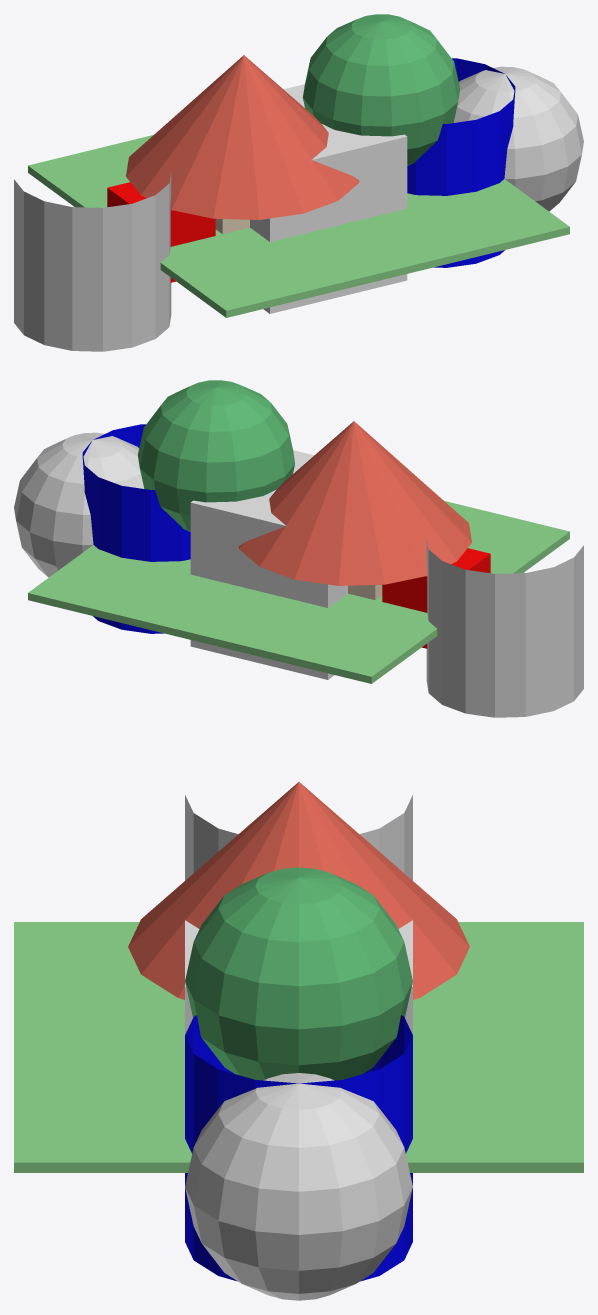
File: result.glb
3 renders of one model, top to bottom at view 1: azimuth 30°, elevation 25°; view 2: azimuth 150°, elevation 25°; view 3: azimuth 270°, elevation 25°, orthographic. The views are drawn at different scales.
Parts seen in each view (by area): view 1: Lowpoly_Ground, Lowpoly_Roof, Cylinder, Lowpoly_Tree_Crown, Sphere, Cube, Blue_Cylinder, Red_Cube; view 2: Lowpoly_Ground, Lowpoly_Roof, Cylinder, Lowpoly_Tree_Crown, Sphere, Cube, Blue_Cylinder, Red_Cube; view 3: Lowpoly_Ground, Sphere, Lowpoly_Tree_Crown, Lowpoly_Roof, Blue_Cylinder, Cylinder, Cube.
Boxes of the visible parts, x1,y1,x2,y2 form: Lowpoly_Ground: [28, 135, 569, 317]; Lowpoly_Roof: [126, 55, 359, 219]; Cylinder: [14, 172, 171, 351]; Lowpoly_Tree_Crown: [303, 14, 459, 165]; Sphere: [453, 66, 583, 211]; Cube: [250, 84, 407, 313]; Blue_Cylinder: [407, 58, 515, 267]; Red_Cube: [107, 182, 215, 282]; Lowpoly_Ground: [28, 501, 569, 683]; Lowpoly_Roof: [238, 421, 471, 585]; Cylinder: [426, 538, 583, 717]; Lowpoly_Tree_Crown: [138, 380, 294, 531]; Sphere: [14, 432, 144, 577]; Cube: [190, 450, 347, 679]; Blue_Cylinder: [82, 424, 190, 633]; Red_Cube: [382, 548, 490, 648]; Lowpoly_Ground: [14, 922, 583, 1172]; Sphere: [185, 1073, 412, 1300]; Lowpoly_Tree_Crown: [185, 867, 412, 1080]; Lowpoly_Roof: [128, 782, 469, 999]; Blue_Cylinder: [185, 1015, 412, 1281]; Cylinder: [185, 795, 412, 880]; Cube: [185, 920, 412, 1034].
Bounding box in the file's own units: 8 × 3.15 × 5.
